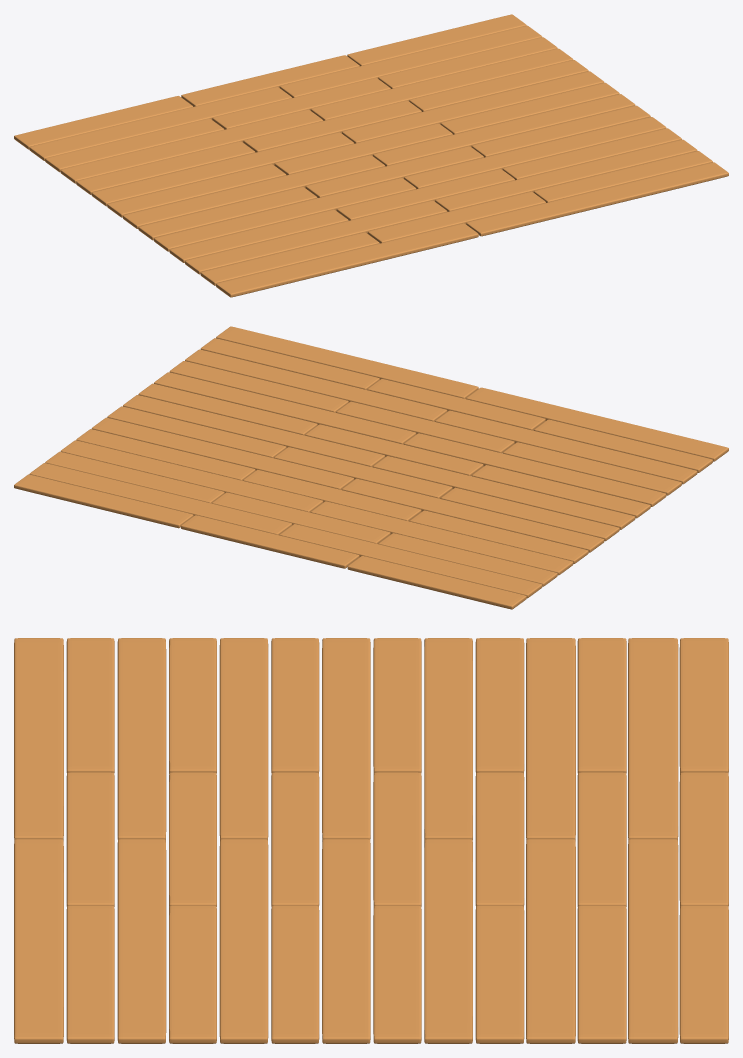
The model's file is piso.fbx.
The picture shows the model from 3 angles, top to bottom: view 1: azimuth 30°, elevation 25°; view 2: azimuth 150°, elevation 25°; view 3: azimuth 270°, elevation 25°; orthographic projection. The views are drawn at different scales.
Visible parts, largest first — view 1: Cube.068; view 2: Cube.068; view 3: Cube.068.
Boxes of the visible parts, box(x1,y1,x2,y2) form: Cube.068: box(14, 14, 728, 297); Cube.068: box(14, 326, 728, 609); Cube.068: box(14, 638, 728, 1043).
Size of the model in its own units: 327 by 2.54 by 246.
